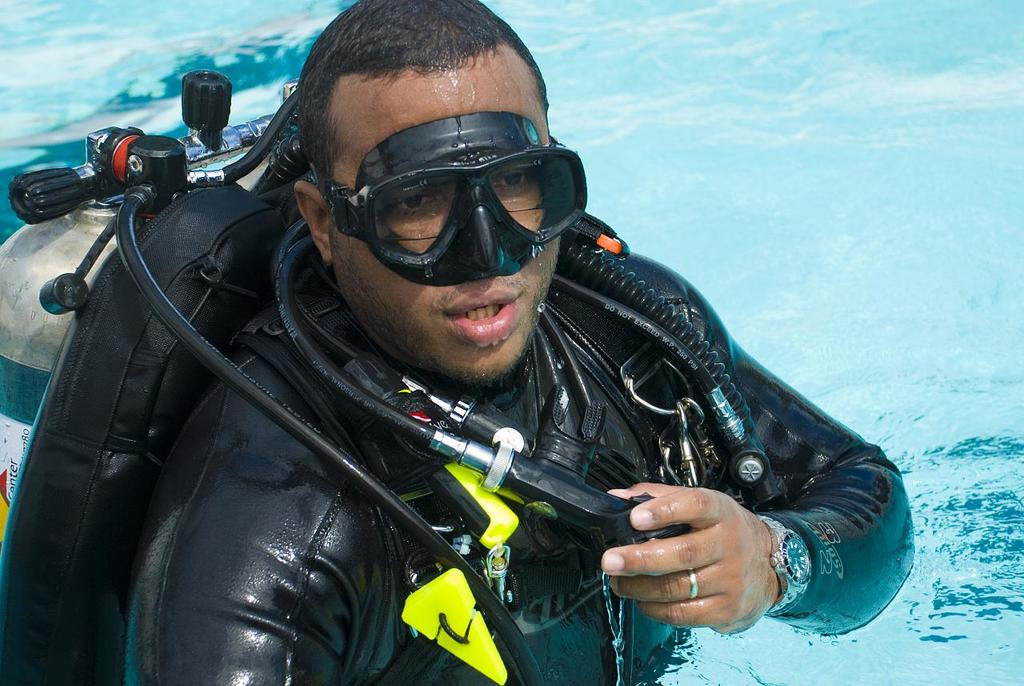Person: (135, 0, 915, 685)
